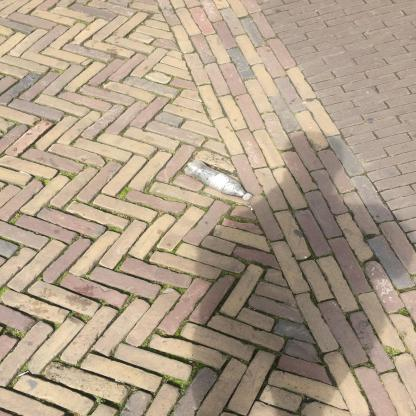plastik: (183, 159, 254, 201)
